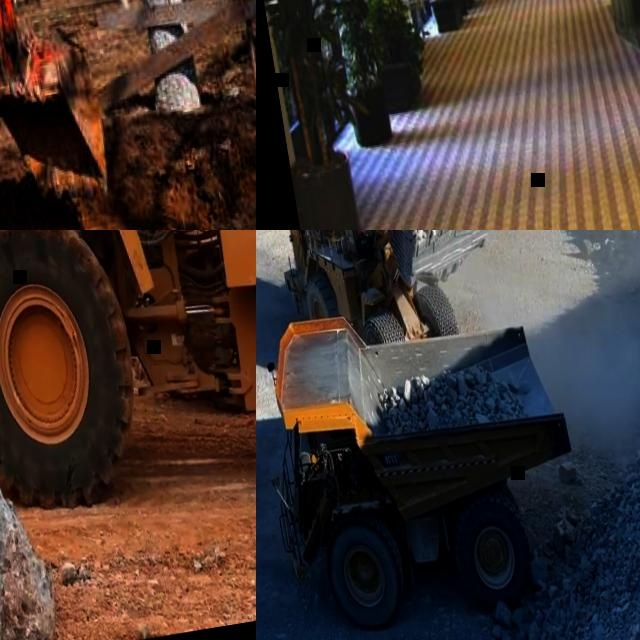NO-Safety Vest: (356, 230, 366, 235)
Person: (354, 230, 369, 235)
machinery: (256, 270, 599, 640), (0, 230, 256, 604), (269, 230, 515, 357), (0, 0, 131, 230)
